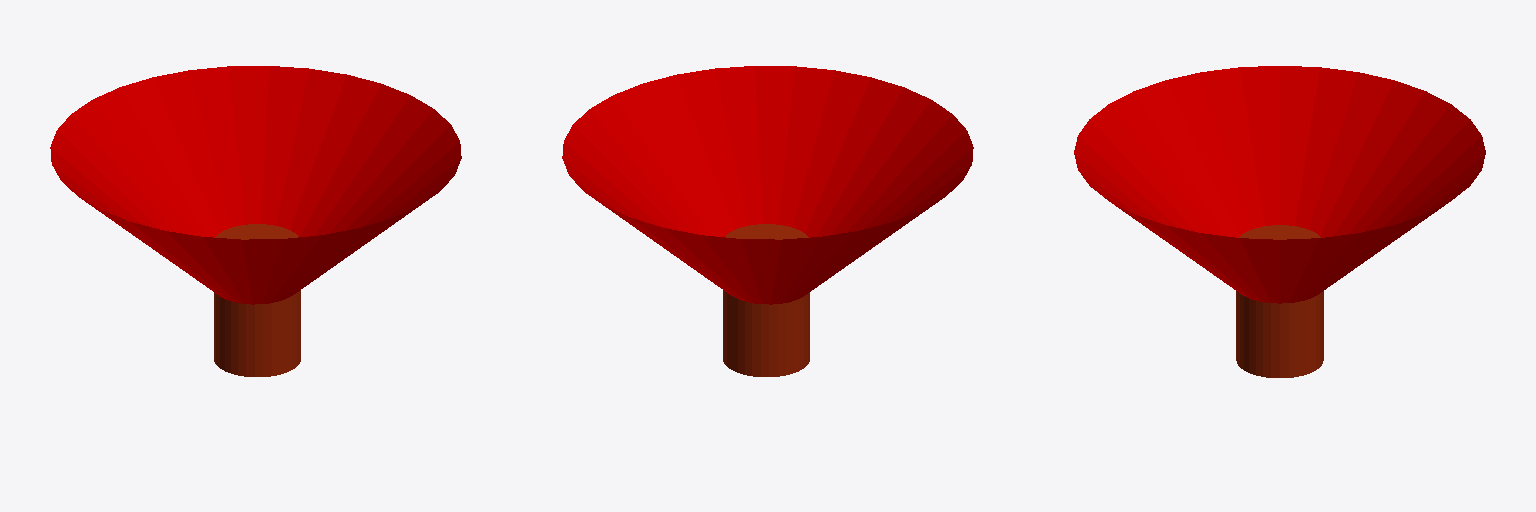
The model's file is light_new.obj.
The picture shows the model from 3 angles: view 1: azimuth 30°, elevation 25°; view 2: azimuth 150°, elevation 25°; view 3: azimuth 270°, elevation 25°; orthographic projection.
Parts seen in each view (by area): view 1: Cylinder.001, Cylinder; view 2: Cylinder.001, Cylinder; view 3: Cylinder.001, Cylinder.
Part boxes in pixels (bbox=[...]): Cylinder.001: bbox=[50, 66, 461, 304]; Cylinder: bbox=[214, 224, 300, 376]; Cylinder.001: bbox=[562, 66, 973, 304]; Cylinder: bbox=[723, 224, 809, 376]; Cylinder.001: bbox=[1074, 66, 1485, 303]; Cylinder: bbox=[1236, 225, 1323, 377].
Size of the model in its own units: 0.38 by 0.2102 by 0.38.